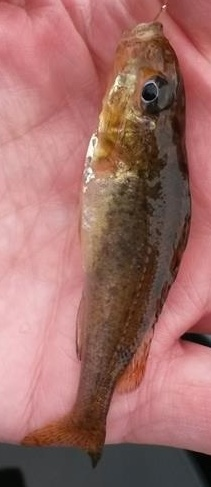Gymnocephalus cernuus: (20, 20, 191, 467)
